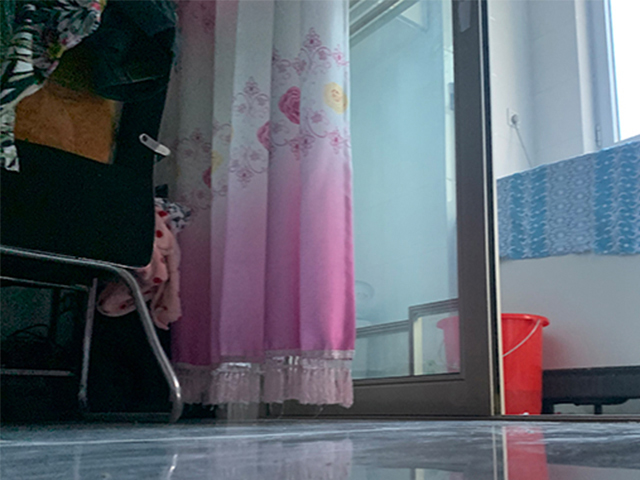curtain: (166, 1, 357, 410)
stool: (1, 4, 185, 423)
